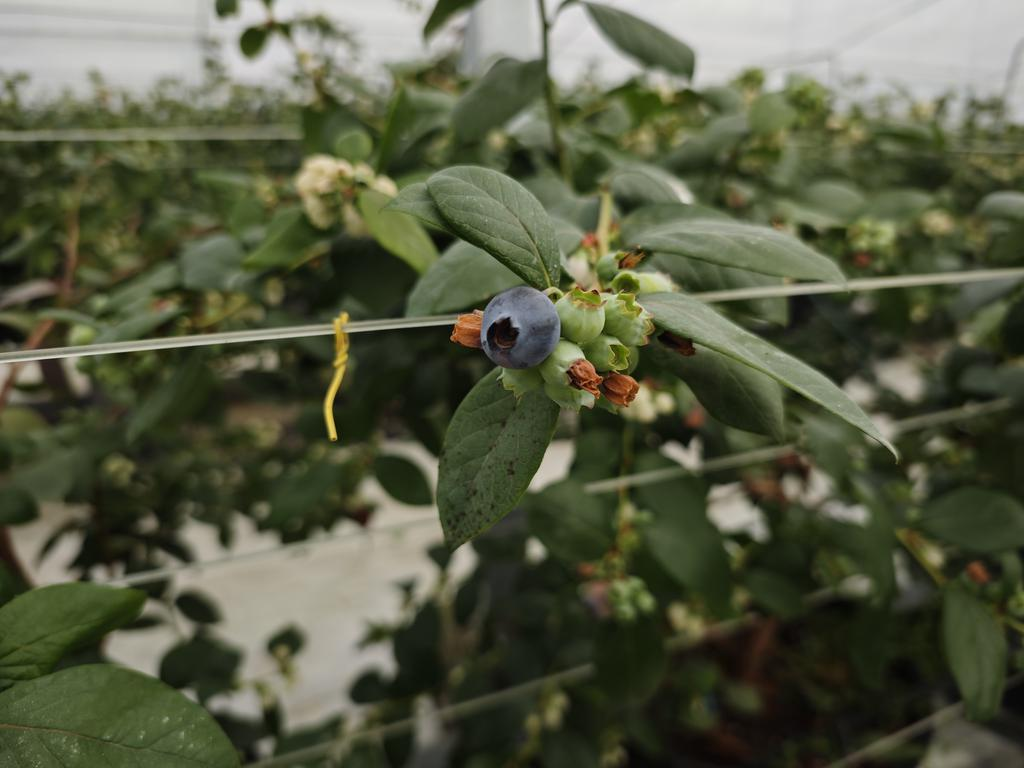RipeBlueBerry: (478, 285, 564, 371)
